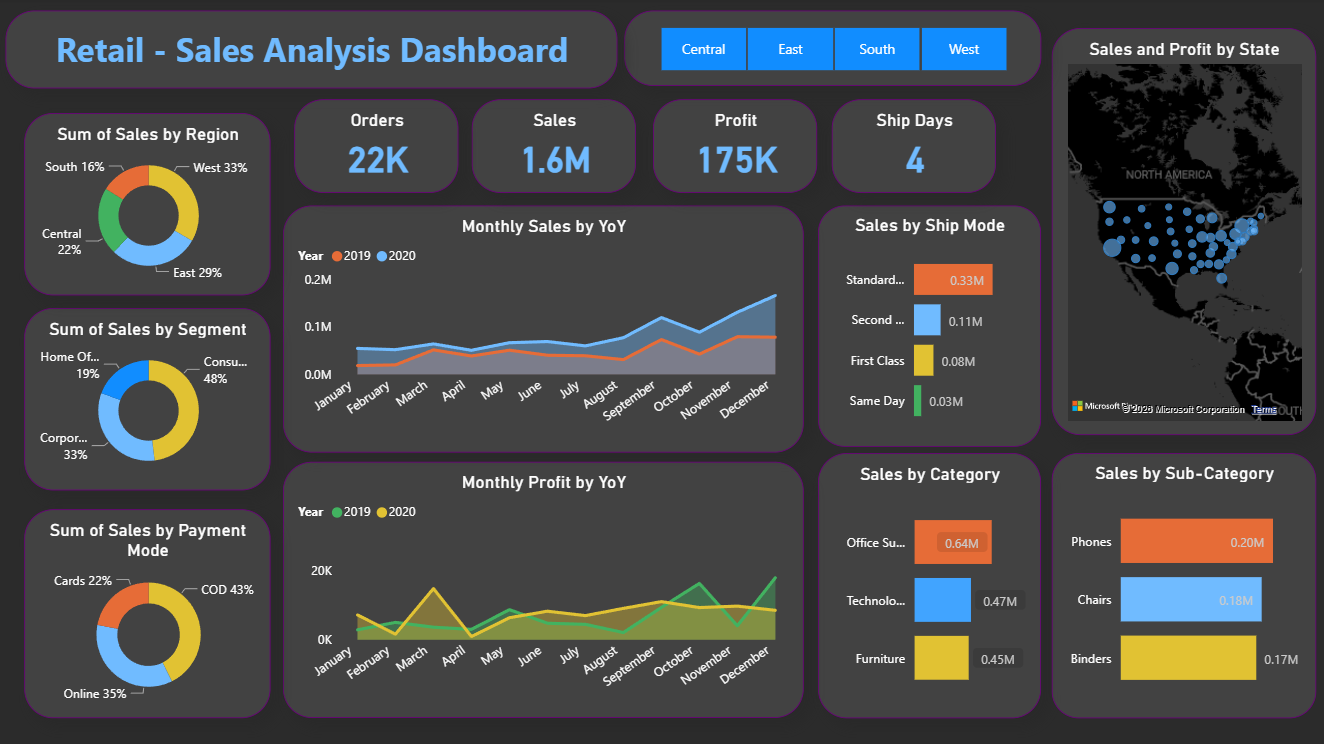

The page's visual inventory and layout, read from the dashboard file:
{"tool":"powerbi","page":{"name":" Main page ","canvas":[1280,720],"ordinal":0},"visuals":[{"type":"clusteredBarChart","title":"Sales by Category","fields":{"Category":["SuperStore_Sales_Dataset.Category"],"Y":["Sum(SuperStore_Sales_Dataset.Sales)","Sum(SuperStore_Sales_Dataset.Sales)"]},"box":[791.2,438.8,215,256.2],"z":0},{"type":"clusteredBarChart","title":"Sales by Sub-Category","fields":{"Category":["SuperStore_Sales_Dataset.Sub-Category"],"Y":["Sum(SuperStore_Sales_Dataset.Sales)"]},"box":[1016.2,438.8,255,256.2],"z":1000},{"type":"clusteredBarChart","title":"Sales by Ship Mode","fields":{"Y":["Sum(SuperStore_Sales_Dataset.Sales)"],"Category":["SuperStore_Sales_Dataset.Ship Mode"]},"box":[791.2,200,215,232.5],"z":2000},{"type":"areaChart","title":"Monthly Sales by YoY","fields":{"Y":["Sum(SuperStore_Sales_Dataset.Sales)"],"Series":["SuperStore_Sales_Dataset.Order Date.Variation.Date Hierarchy.Year"],"Category":["SuperStore_Sales_Dataset.Order Date.Variation.Date Hierarchy.Month","SuperStore_Sales_Dataset.Order Date.Variation.Date Hierarchy.Day"]},"box":[275,200,502.5,238.8],"z":3000},{"type":"areaChart","title":"Monthly Profit by YoY","fields":{"Series":["SuperStore_Sales_Dataset.Order Date.Variation.Date Hierarchy.Year"],"Category":["SuperStore_Sales_Dataset.Order Date.Variation.Date Hierarchy.Month","SuperStore_Sales_Dataset.Order Date.Variation.Date Hierarchy.Day"],"Y":["Sum(SuperStore_Sales_Dataset.Profit)"]},"box":[275,447.5,502.5,247.5],"z":4000},{"type":"map","title":"Sales and Profit by State","fields":{"Category":["SuperStore_Sales_Dataset.State"],"Size":["Sum(SuperStore_Sales_Dataset.Sales)"]},"box":[1016.2,28.8,255,392.5],"z":5000},{"type":"donutChart","fields":{"Y":["Sum(SuperStore_Sales_Dataset.Sales)"],"Category":["SuperStore_Sales_Dataset.Segment"]},"box":[25,298.8,237.5,176.2],"z":6000},{"type":"donutChart","fields":{"Y":["Sum(SuperStore_Sales_Dataset.Sales)"],"Category":["SuperStore_Sales_Dataset.Payment Mode"]},"box":[25,493.8,237.5,201.2],"z":7000},{"type":"slicer","fields":{"Values":["SuperStore_Sales_Dataset.Region"]},"box":[603.8,12.5,402.5,72.5],"z":8000},{"type":"textbox","box":[7.5,12.5,590,75],"z":9000},{"type":"donutChart","fields":{"Y":["Sum(SuperStore_Sales_Dataset.Sales)"],"Category":["SuperStore_Sales_Dataset.Region"]},"box":[25,111.2,237.5,176.2],"z":10000},{"type":"card","title":"Sales","fields":{"Values":["Sum(SuperStore_Sales_Dataset.Sales)"]},"box":[457.5,97.5,158.8,90],"z":11000},{"type":"card","title":"Profit","fields":{"Values":["Sum(SuperStore_Sales_Dataset.Profit)"]},"box":[632.5,97.5,158.8,90],"z":12000},{"type":"card","title":"Orders","fields":{"Values":["Sum(SuperStore_Sales_Dataset.Quantity)"]},"box":[286.2,97.5,158.8,90],"z":13000},{"type":"card","title":"Ship Days","fields":{"Values":["Avg(SuperStore_Sales_Dataset.AvgDelivery)"]},"box":[805,97.5,158.8,90],"z":14000}]}

Visuals, with their boxes in screenshot pixels (x1, y1, x2, y2), scaled from the page's 1280x720 canvas onto the 1324x744 screenshot:
"Sales by Category" clusteredBarChart: rect(818, 453, 1041, 718)
"Sales by Sub-Category" clusteredBarChart: rect(1051, 453, 1315, 718)
"Sales by Ship Mode" clusteredBarChart: rect(818, 207, 1041, 447)
"Monthly Sales by YoY" areaChart: rect(284, 207, 804, 453)
"Monthly Profit by YoY" areaChart: rect(284, 462, 804, 718)
"Sales and Profit by State" map: rect(1051, 30, 1315, 435)
donutChart - Sum(SuperStore_Sales_Dataset.Sales) x SuperStore_Sales_Dataset.Segment: rect(26, 309, 272, 491)
donutChart - Sum(SuperStore_Sales_Dataset.Sales) x SuperStore_Sales_Dataset.Payment Mode: rect(26, 510, 272, 718)
slicer - SuperStore_Sales_Dataset.Region: rect(625, 13, 1041, 88)
textbox: rect(8, 13, 618, 90)
donutChart - Sum(SuperStore_Sales_Dataset.Sales) x SuperStore_Sales_Dataset.Region: rect(26, 115, 272, 297)
"Sales" card: rect(473, 101, 637, 194)
"Profit" card: rect(654, 101, 819, 194)
"Orders" card: rect(296, 101, 460, 194)
"Ship Days" card: rect(833, 101, 997, 194)
